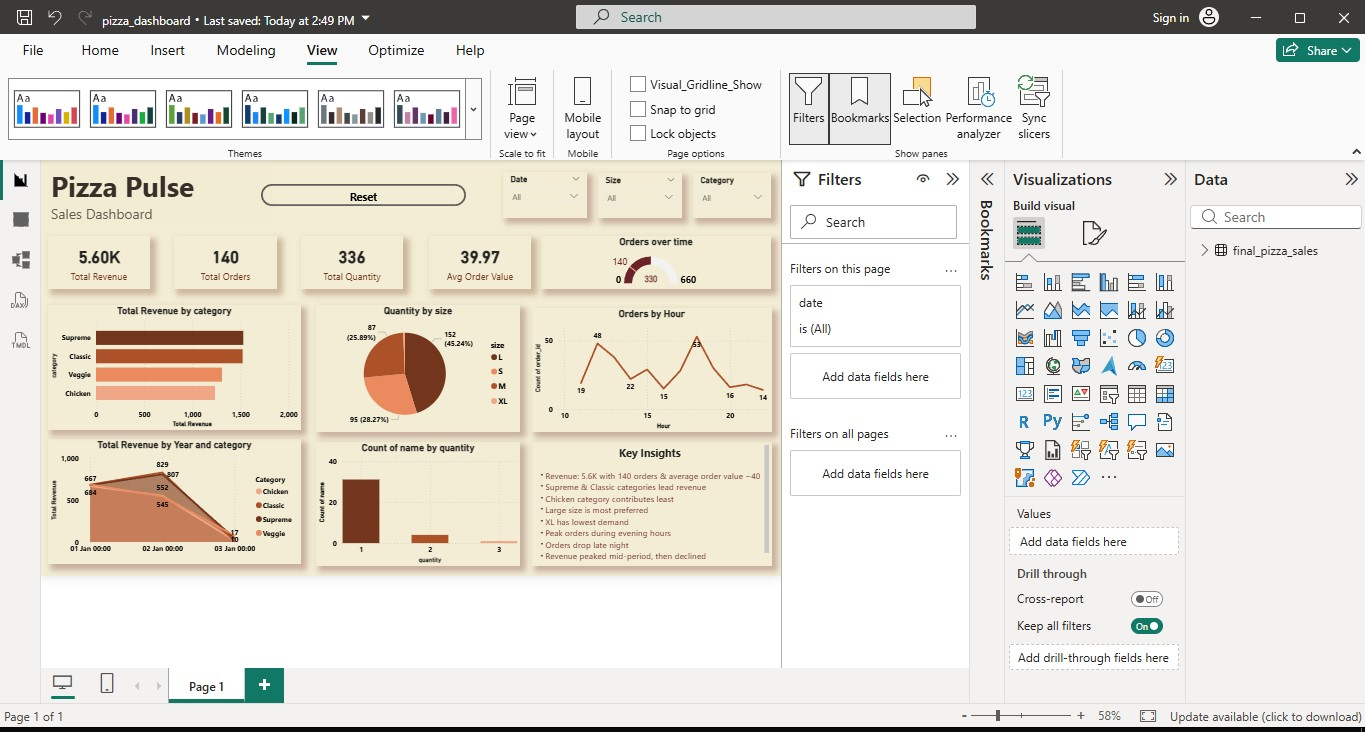

What the dashboard file says about the page in this screenshot:
{"tool":"powerbi","page":{"name":"Page 1","canvas":[1280,720],"ordinal":0},"visuals":[{"type":"textbox","box":[11.7,6.7,396.7,110],"z":0},{"type":"card","fields":{"Values":["final_pizza_sales.Total Revenue"]},"box":[11.7,131.7,176.7,91.7],"z":1000},{"type":"slicer","fields":{"Values":["final_pizza_sales.size"]},"box":[963.3,21.7,145,78.3],"z":2000},{"type":"slicer","fields":{"Values":["final_pizza_sales.category"]},"box":[1128.3,21.7,135,78.3],"z":3000},{"type":"clusteredBarChart","fields":{"Category":["final_pizza_sales.category"],"Y":["final_pizza_sales.Total Revenue"]},"box":[11.6,251,437.2,216.1],"z":4000},{"type":"pieChart","title":"Quantity by size","fields":{"Category":["final_pizza_sales.size"],"Y":["Sum(final_pizza_sales.quantity)"]},"box":[475.9,250.4,353.2,218.9],"z":5000},{"type":"lineChart","title":"Total Revenue by Year and category","fields":{"Y":["final_pizza_sales.Total Revenue"],"Series":["final_pizza_sales.category"],"Category":["final_pizza_sales.date.Variation.Date Hierarchy.Year","final_pizza_sales.date.Variation.Date Hierarchy.Quarter","final_pizza_sales.date.Variation.Date Hierarchy.Month","final_pizza_sales.date.Variation.Date Hierarchy.Day"]},"box":[11.6,482.5,437.7,217.2],"z":6000},{"type":"columnChart","fields":{"Category":["final_pizza_sales.quantity"],"Y":["Count(final_pizza_sales.name)"]},"box":[475.9,487.5,353.2,213.9],"z":7000},{"type":"lineChart","title":"Orders by Hour","fields":{"Category":["final_pizza_sales.Hour"],"Y":["CountNonNull(final_pizza_sales.order_id)"]},"box":[848.9,255.3,414.5,213.9],"z":8000},{"type":"card","fields":{"Values":["final_pizza_sales.Total Orders"]},"box":[230,131.7,178.3,91.7],"z":9000},{"type":"card","fields":{"Values":["final_pizza_sales.Total Quantity"]},"box":[450,131.7,176.7,91.7],"z":10000},{"type":"card","fields":{"Values":["final_pizza_sales.Avg Order Value"]},"box":[671.7,131.7,176.7,91.7],"z":11000},{"type":"gauge","title":"Orders over time","fields":{"Y":["CountNonNull(final_pizza_sales.order_id)"],"TargetValue":["Count(final_pizza_sales.time)"]},"box":[865,131.7,398.3,91.7],"z":12000},{"type":"slicer","fields":{"Values":["final_pizza_sales.date"]},"box":[799.4,21.5,145.3,79.3],"z":13000},{"type":"textbox","box":[849,487,415,214],"z":14000},{"type":"actionButton","box":[380.5,41.5,354.6,38.1],"z":14001}]}

Visuals, with their boxes on the page's 1280x720 design canvas (x1, y1, x2, y2). These are canvas units, not pixel positions in the 1365x732 screenshot, which may show the page scaled, cropped or inside an application window:
textbox: select_region(12, 7, 408, 117)
card - final_pizza_sales.Total Revenue: select_region(12, 132, 188, 223)
slicer - final_pizza_sales.size: select_region(963, 22, 1108, 100)
slicer - final_pizza_sales.category: select_region(1128, 22, 1263, 100)
clusteredBarChart - final_pizza_sales.category x final_pizza_sales.Total Revenue: select_region(12, 251, 449, 467)
"Quantity by size" pieChart: select_region(476, 250, 829, 469)
"Total Revenue by Year and category" lineChart: select_region(12, 482, 449, 700)
columnChart - final_pizza_sales.quantity x Count(final_pizza_sales.name): select_region(476, 488, 829, 701)
"Orders by Hour" lineChart: select_region(849, 255, 1263, 469)
card - final_pizza_sales.Total Orders: select_region(230, 132, 408, 223)
card - final_pizza_sales.Total Quantity: select_region(450, 132, 627, 223)
card - final_pizza_sales.Avg Order Value: select_region(672, 132, 848, 223)
"Orders over time" gauge: select_region(865, 132, 1263, 223)
slicer - final_pizza_sales.date: select_region(799, 22, 945, 101)
textbox: select_region(849, 487, 1264, 701)
actionButton: select_region(380, 42, 735, 80)
